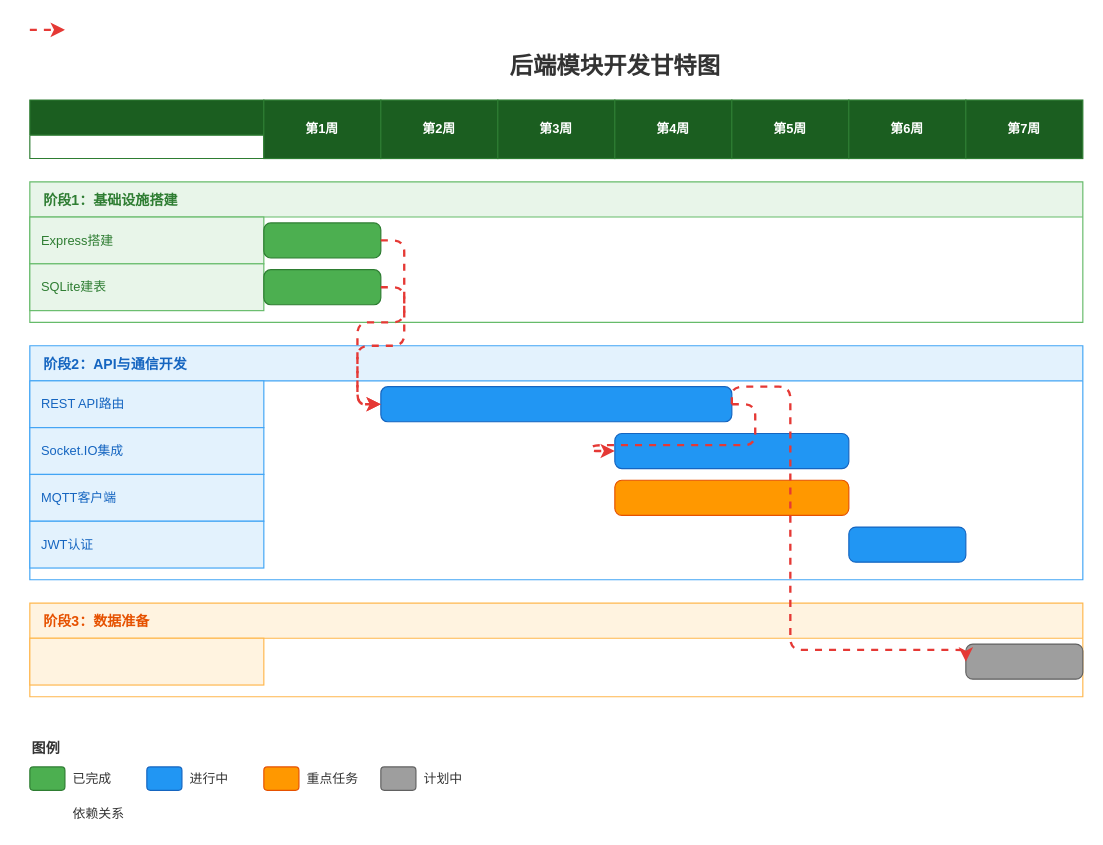
Image size: 1103x845. Some labels were removed from this diagram. The shapes that lost their labels are listed below. From the top down, each one's centre as x and y in pixels, then its label:
point (146, 129): 任务
point (146, 661): 种子数据
